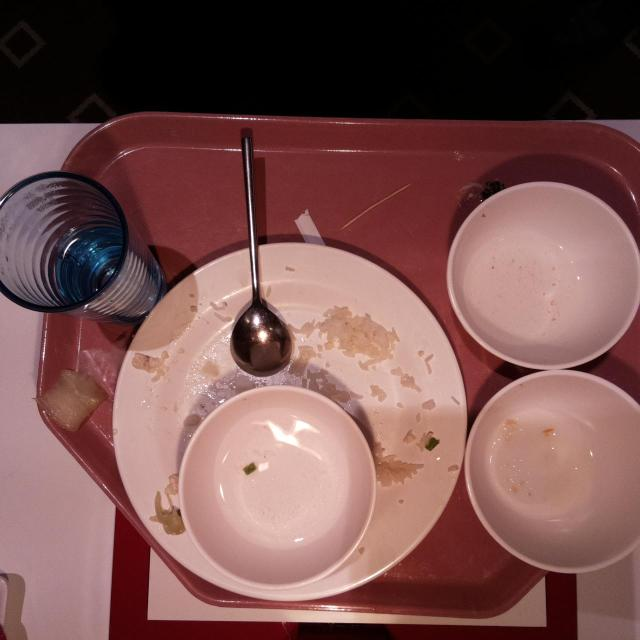Rice: (321, 302, 399, 363), (372, 441, 426, 488)
